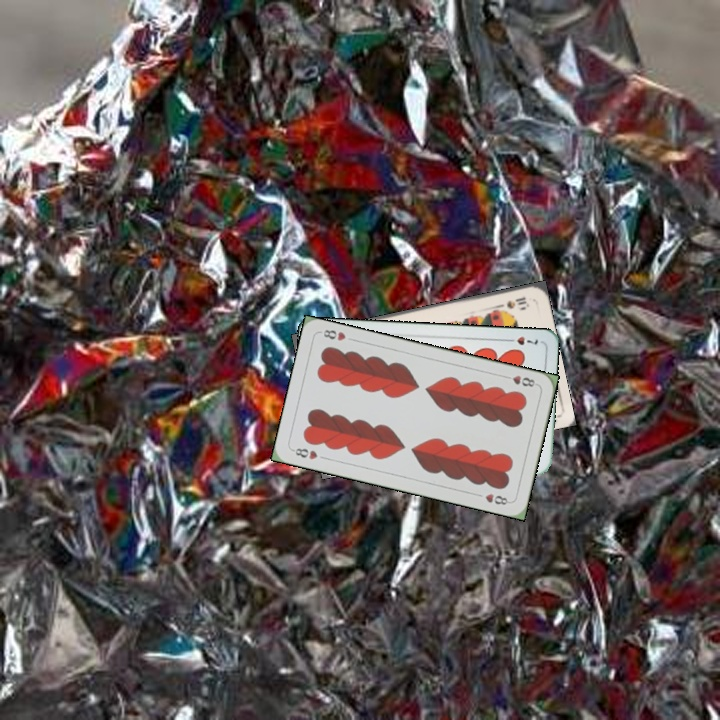H7: (502, 332, 540, 348)
H8: (500, 371, 540, 390), (288, 444, 320, 462)
S10: (493, 293, 531, 311)
